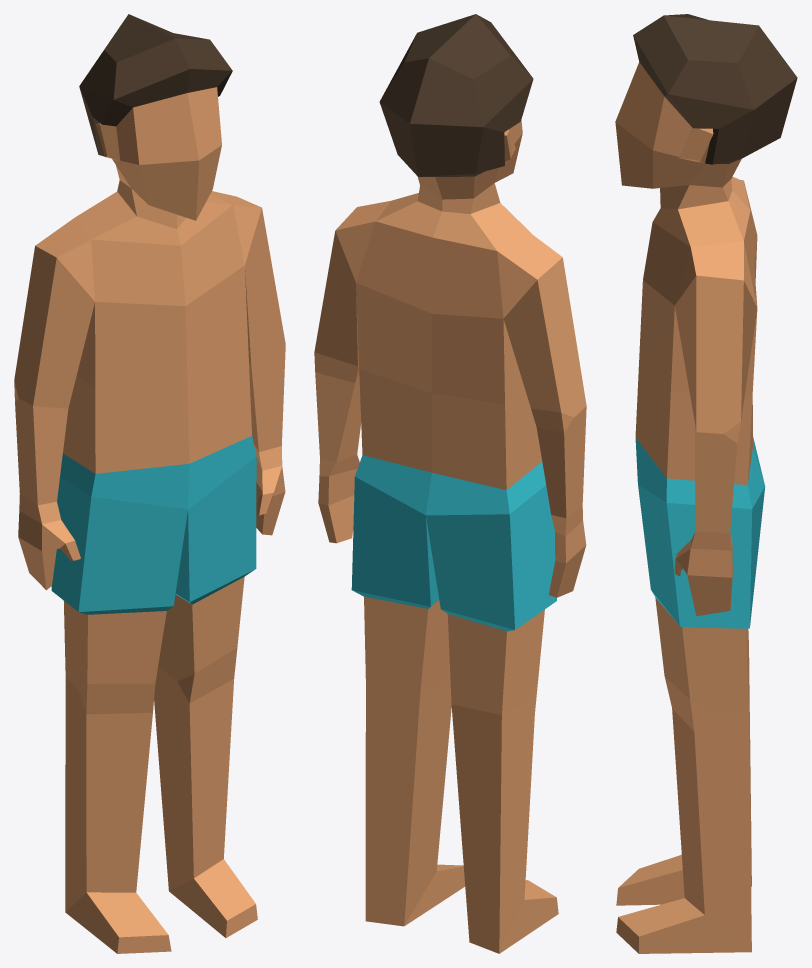
The model's file is boy-beach.glb.
3 renders of one model, left to right at view 1: azimuth 30°, elevation 25°; view 2: azimuth 150°, elevation 25°; view 3: azimuth 270°, elevation 25°, orthographic.
Parts seen in each view (by area): view 1: boy-beach; view 2: boy-beach; view 3: boy-beach.
Part boxes in pixels (x1=…): boy-beach: x1=14, y1=14, x2=285, y2=953; boy-beach: x1=314, y1=14, x2=586, y2=953; boy-beach: x1=615, y1=14, x2=797, y2=953.
Size of the model in its own units: 0.3303 by 1.1 by 0.2011.
Materials: 1 (1 with a texture image).
